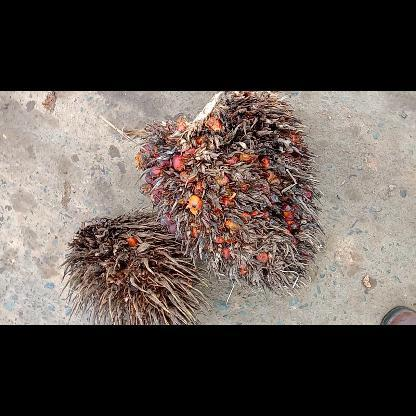Janjang kosong: (58, 208, 212, 324)
Terlalu masak: (124, 91, 326, 297)
